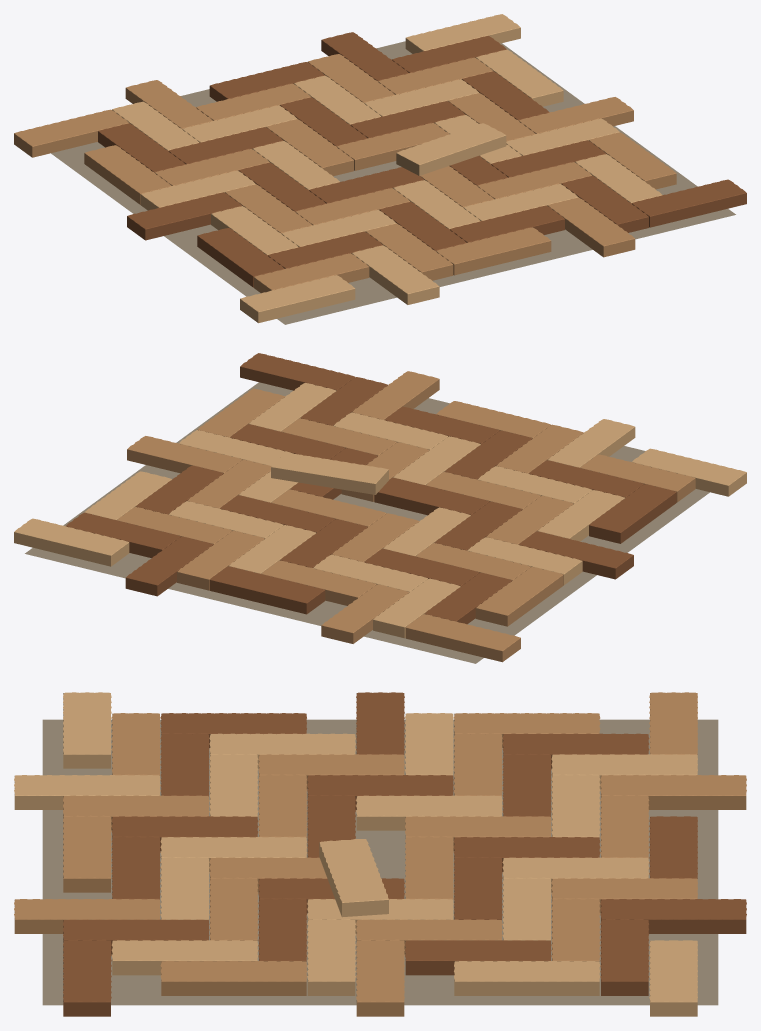
Rendered from terilgan.glb.
3 renders of one model, top to bottom at view 1: azimuth 30°, elevation 25°; view 2: azimuth 150°, elevation 25°; view 3: azimuth 270°, elevation 25°, orthographic. The views are drawn at different scales.
Visible parts, largest first — view 1: qum, t, t.030, t.011, t.034, t.007, t.026, t.018, t.003, t.012, t.001, t.038 (+46 smaller); view 2: qum, t.030, t.047, t.056, t.026, t.012, t.001, t.034, t.051, t.022, t.007, t (+46 smaller); view 3: qum, t.041, t.054, t.035, t.052, t.030, t.050, t.033, t.021, t.051, t.003, t.018 (+46 smaller).
Part boxes in pixels (x1,y1,x2,y2): qum: (51,41,735,324); t: (240,275,355,323); t.030: (396,123,506,175); t.011: (436,227,551,275); t.034: (632,179,746,227); t.007: (127,192,241,240); t.026: (14,109,128,157); t.018: (547,197,635,257); t.003: (351,245,439,304); t.012: (84,145,171,204); t.001: (197,228,284,287); t.038: (336,123,449,170); qum: (25,382,709,663); t.030: (271,452,388,494); t.047: (209,566,325,614); t.056: (14,518,129,566); t.026: (405,614,520,662); t.012: (475,567,563,626); t.001: (589,484,676,543); t.034: (240,353,355,390); t.051: (127,436,242,473); t.022: (374,478,489,515); t.007: (519,531,633,579); t: (632,448,746,496); qum: (42,719,718,1005); t.041: (160,961,306,995); t.054: (454,961,600,995); t.035: (600,775,746,809); t.052: (600,899,746,933); t.030: (319,839,388,917); t.050: (405,940,551,975); t.033: (112,940,258,975); t.021: (356,795,502,830); t.051: (356,940,404,1016); t.003: (14,775,160,809); t.018: (14,899,160,933).
Bounding box in the file's own units: 1.8 × 0.082 × 1.8.
